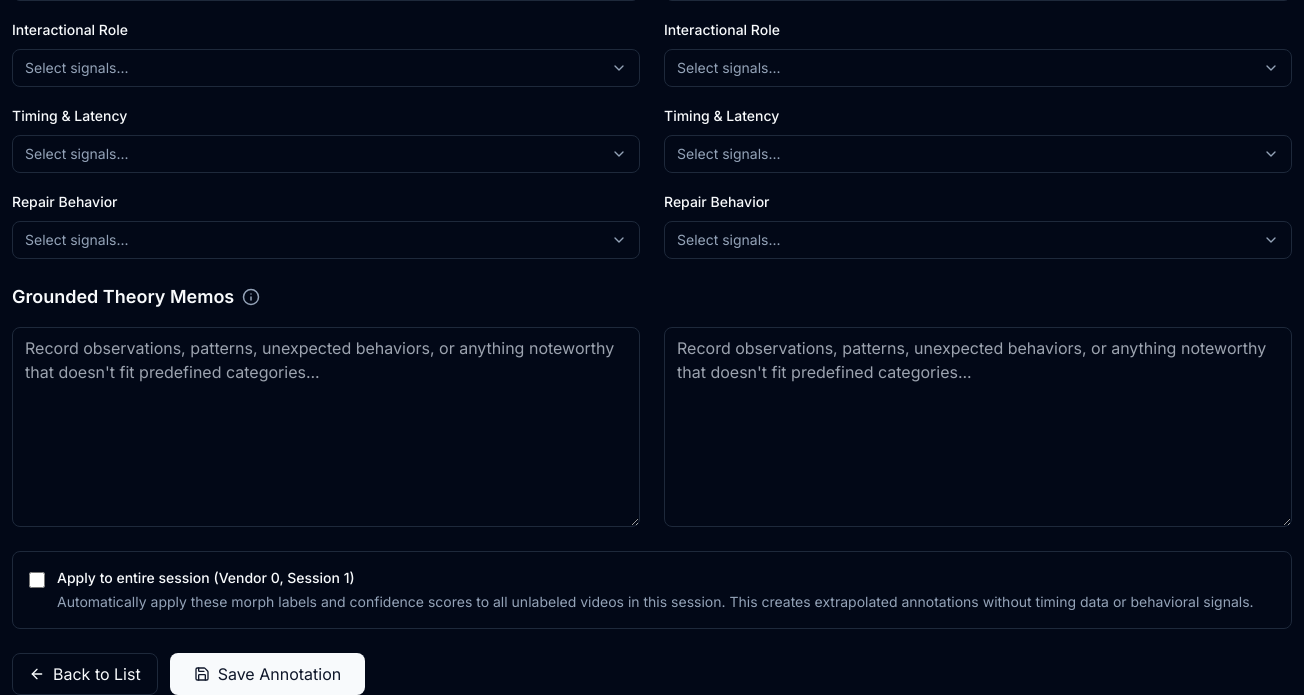
Test: LabelingForm › should show error when submitting without labels
The width and height of the screenshot is (1304, 695).
(page scrolled)
Click the button "Save Annotation": (267, 674) [170,653,365,694]
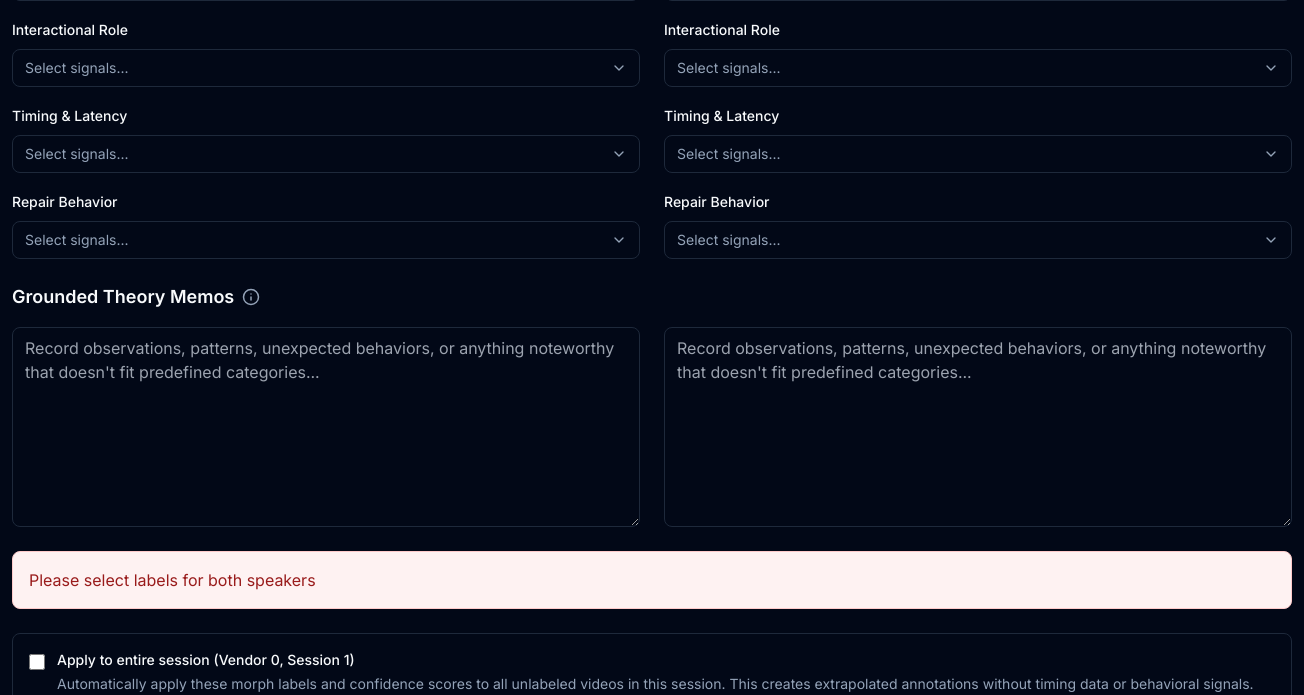
Expected: the text "Please select labels for both speakers" is shown, [12,551,1292,609]
